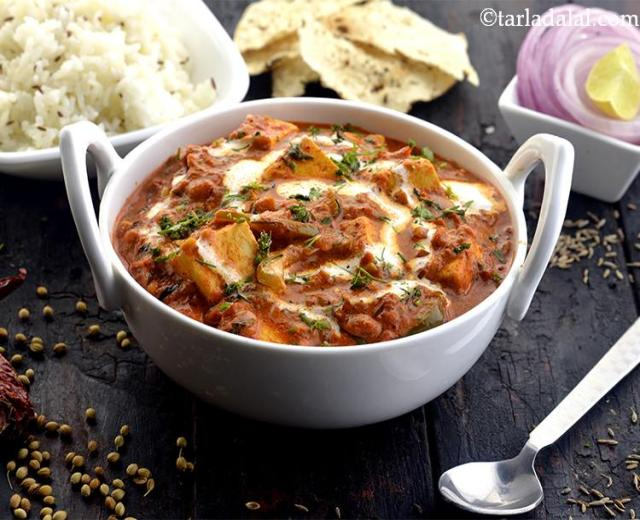kadai paneer: (61, 98, 572, 427), (500, 292, 592, 417)
